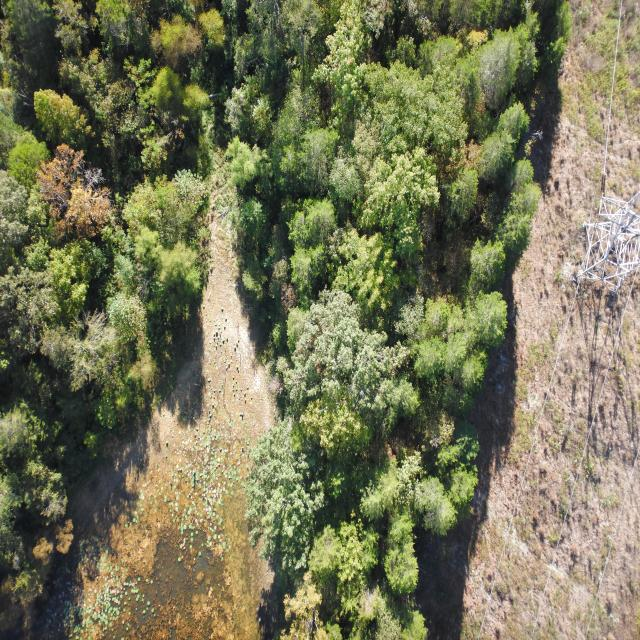Area of Interest: (1, 13, 547, 635)
